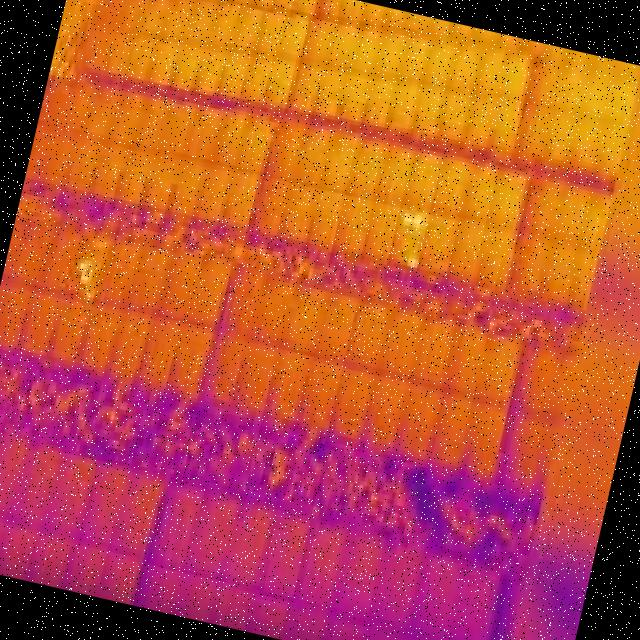Hotspot: (408, 214, 424, 228), (82, 288, 98, 302), (399, 212, 412, 226), (406, 254, 418, 268), (76, 270, 88, 284), (78, 259, 88, 272)
